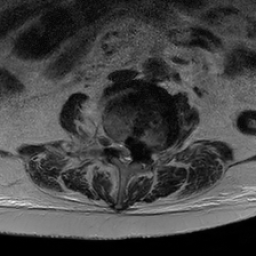CCS_normal: (123, 138, 131, 168)
LFS_severe_stenosis: (141, 138, 148, 158)
LLS_severe_stenosis: (132, 139, 140, 162)
RFS_normal: (107, 130, 117, 152)
RLS_normal: (116, 137, 123, 164)
